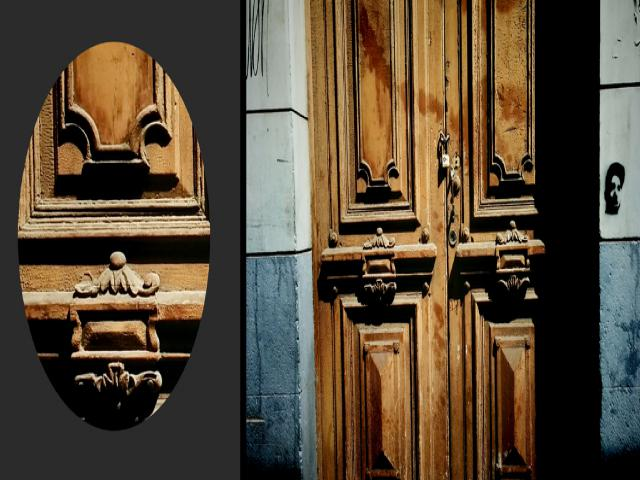Door-handle: (448, 164, 456, 221)
